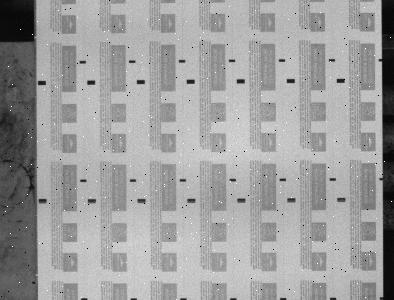backgroundclutter: (32, 281, 36, 284), (35, 274, 38, 277)
incorrect qblock: (379, 58, 383, 62), (380, 297, 385, 300), (380, 177, 384, 180)
qblock: (38, 198, 47, 203), (38, 80, 46, 85), (87, 80, 95, 85), (337, 78, 345, 83), (137, 79, 145, 84), (187, 79, 195, 84), (237, 79, 246, 83), (287, 79, 295, 83)
smallqblock: (187, 198, 196, 203), (237, 198, 246, 203), (338, 197, 346, 202), (88, 199, 96, 203), (138, 199, 146, 203), (288, 198, 296, 202), (79, 60, 86, 64), (179, 59, 186, 63), (180, 178, 186, 182), (130, 297, 137, 300), (129, 60, 136, 63), (280, 297, 287, 300), (230, 297, 237, 300), (180, 297, 187, 300), (330, 297, 337, 300), (329, 59, 336, 62), (279, 59, 286, 62), (229, 59, 236, 62), (80, 179, 87, 182), (280, 178, 287, 181), (130, 179, 137, 182), (230, 178, 237, 181), (81, 297, 87, 300), (330, 178, 336, 181)
